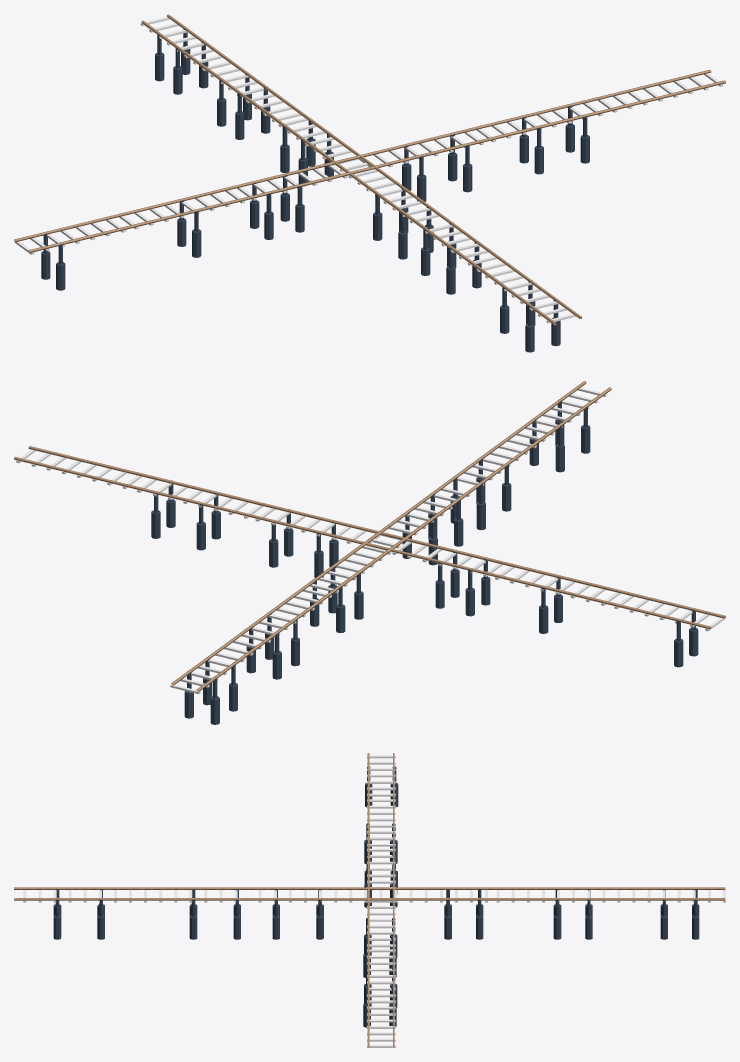
File: RollerCoaster_014.fbx
3 renders of one model, top to bottom at view 1: azimuth 30°, elevation 25°; view 2: azimuth 150°, elevation 25°; view 3: azimuth 270°, elevation 25°, orthographic. The views are drawn at different scales.
Parts seen in each view (by area): view 1: Columns.026, Path.076, Path.036, Path.058, RailStep.059, RailStep.033, RailStep.061, Path.062, Path.060, Path.034, RailStep.075, RailStep.057 (+1 smaller); view 2: Columns.026, Path.076, Path.036, Path.058, RailStep.059, RailStep.033, RailStep.061, Path.060, Path.062, RailStep.075, Path.034, RailStep.057 (+1 smaller); view 3: Columns.026, RailStep.075, RailStep.057, Path.060, Path.062, Path.034, RailStep.035, RailStep.059, RailStep.033, RailStep.061, Path.076, Path.036.
Boxes of the visible parts, left/top/right/bottom form: Columns.026: left=41, top=28, right=589, bottom=352; Path.076: left=471, top=70, right=725, bottom=141; Path.036: left=232, top=128, right=486, bottom=199; Path.058: left=14, top=186, right=246, bottom=252; RailStep.059: left=140, top=16, right=301, bottom=122; RailStep.033: left=278, top=118, right=439, bottom=223; RailStep.061: left=425, top=224, right=575, bottom=323; Path.062: left=416, top=215, right=581, bottom=325; Path.060: left=141, top=14, right=306, bottom=123; Path.034: left=279, top=115, right=443, bottom=224; RailStep.075: left=476, top=73, right=723, bottom=142; RailStep.057: left=15, top=190, right=244, bottom=254; Columns.026: left=151, top=400, right=698, bottom=724; Path.076: left=14, top=446, right=268, bottom=517; Path.036: left=253, top=504, right=507, bottom=576; Path.058: left=492, top=563, right=725, bottom=629; RailStep.059: left=170, top=588, right=331, bottom=694; RailStep.033: left=309, top=487, right=470, bottom=592; RailStep.061: left=457, top=387, right=606, bottom=485; Path.060: left=171, top=582, right=336, bottom=691; Path.062: left=446, top=381, right=611, bottom=490; RailStep.075: left=16, top=449, right=263, bottom=518; Path.034: left=310, top=482, right=473, bottom=590; RailStep.057: left=495, top=566, right=724, bottom=631; Columns.026: left=53, top=766, right=699, bottom=1027; RailStep.075: left=367, top=949, right=395, bottom=1047; RailStep.057: left=367, top=755, right=395, bottom=846; Path.060: left=487, top=887, right=725, bottom=900; Path.062: left=14, top=887, right=252, bottom=900; Path.034: left=249, top=887, right=487, bottom=900; RailStep.035: left=367, top=848, right=395, bottom=947; RailStep.059: left=496, top=889, right=725, bottom=902; RailStep.033: left=258, top=890, right=487, bottom=902; RailStep.061: left=23, top=890, right=237, bottom=902; Path.076: left=367, top=945, right=394, bottom=1047; Path.036: left=367, top=844, right=394, bottom=944.
Bounding box in the file's own units: 5814 × 366 × 5977.
